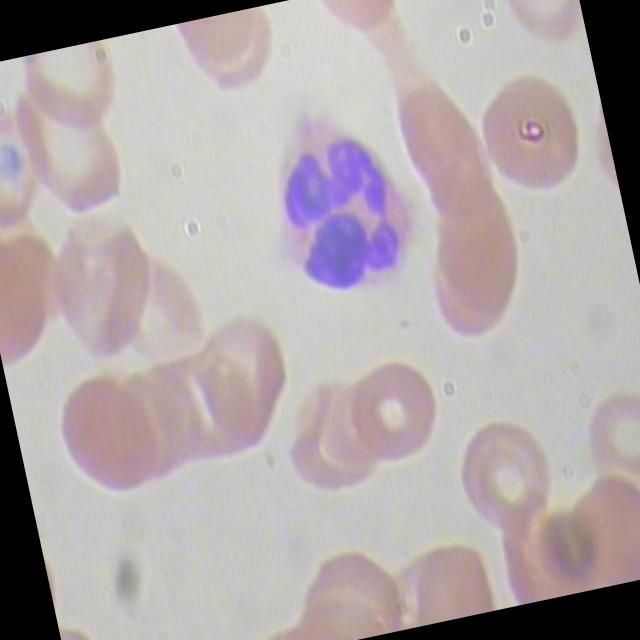RBC: (38, 204, 172, 371), (192, 298, 310, 461), (468, 60, 596, 210), (46, 364, 174, 508), (445, 400, 572, 545), (390, 77, 500, 227), (424, 178, 534, 328), (276, 369, 390, 512), (16, 38, 133, 156), (345, 348, 450, 476), (172, 4, 286, 86), (575, 380, 640, 505), (0, 110, 59, 238), (308, 0, 417, 48)
WBC: (243, 93, 437, 320)
